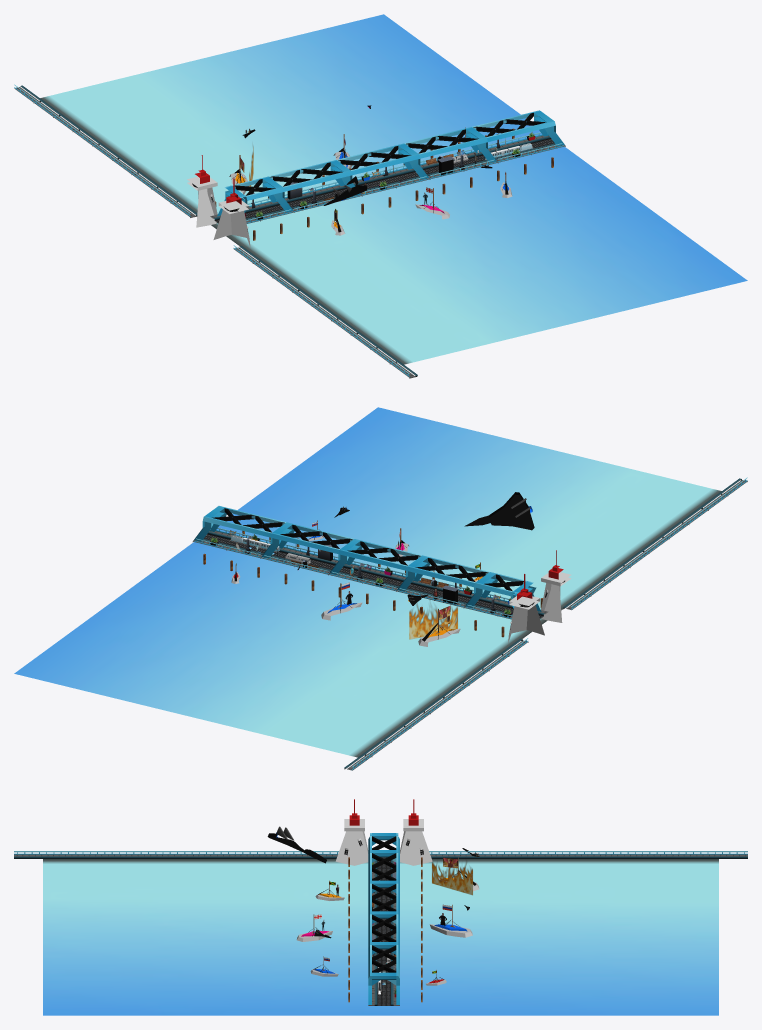
Rendered from subwaysurferstest45.glb.
3 renders of one model, top to bottom at view 1: azimuth 30°, elevation 25°; view 2: azimuth 150°, elevation 25°; view 3: azimuth 270°, elevation 25°, orthographic. The views are drawn at different scales.
Parts seen in each view (by area): view 1: Water, Overpass.002, Overpass, Overpass.001, Overpass.003, lighttower, Overpass.004, lighttower.001; view 2: Water, Overpass.003, Overpass.002, Overpass, Overpass.001, Plane1.001, lighttower.001, Overpass.004, lighttower, Fire; view 3: Water, lighttower.001, lighttower, Overpass, Fire, Overpass.002, Overpass.001, Overpass.003, Overpass.004, Plane1.001, boat1.006.
Part boxes in pixels (<box>): Water: <box>40,14,747,364</box>; Overpass.002: <box>337,143,429,179</box>; Overpass: <box>472,110,565,146</box>; Overpass.001: <box>404,127,497,162</box>; Overpass.003: <box>269,160,361,195</box>; lighttower: <box>213,178,250,247</box>; Overpass.004: <box>217,176,293,216</box>; lighttower.001: <box>187,155,217,227</box>; Water: <box>14,407,721,757</box>; Overpass.003: <box>396,555,489,591</box>; Overpass.002: <box>328,539,421,574</box>; Overpass: <box>193,506,286,541</box>; Overpass.001: <box>261,522,353,558</box>; Plane1.001: <box>464,492,534,530</box>; lighttower.001: <box>508,574,544,642</box>; Overpass.004: <box>464,572,541,611</box>; lighttower: <box>541,550,571,622</box>; Fire: <box>409,603,457,639</box>; Water: <box>43,859,718,1015</box>; lighttower.001: <box>400,799,432,865</box>; lighttower: <box>335,799,368,865</box>; Overpass: <box>368,945,399,1004</box>; Fire: <box>432,861,472,895</box>; Overpass.002: <box>368,883,399,923</box>; Overpass.001: <box>368,914,399,954</box>; Overpass.003: <box>368,853,399,893</box>; Overpass.004: <box>368,833,399,862</box>; Plane1.001: <box>267,826,326,863</box>; boat1.006: <box>429,904,472,937</box>.
Bounding box in the file's own units: 424 × 87.32 × 808.
5 materials, 5 textured.
